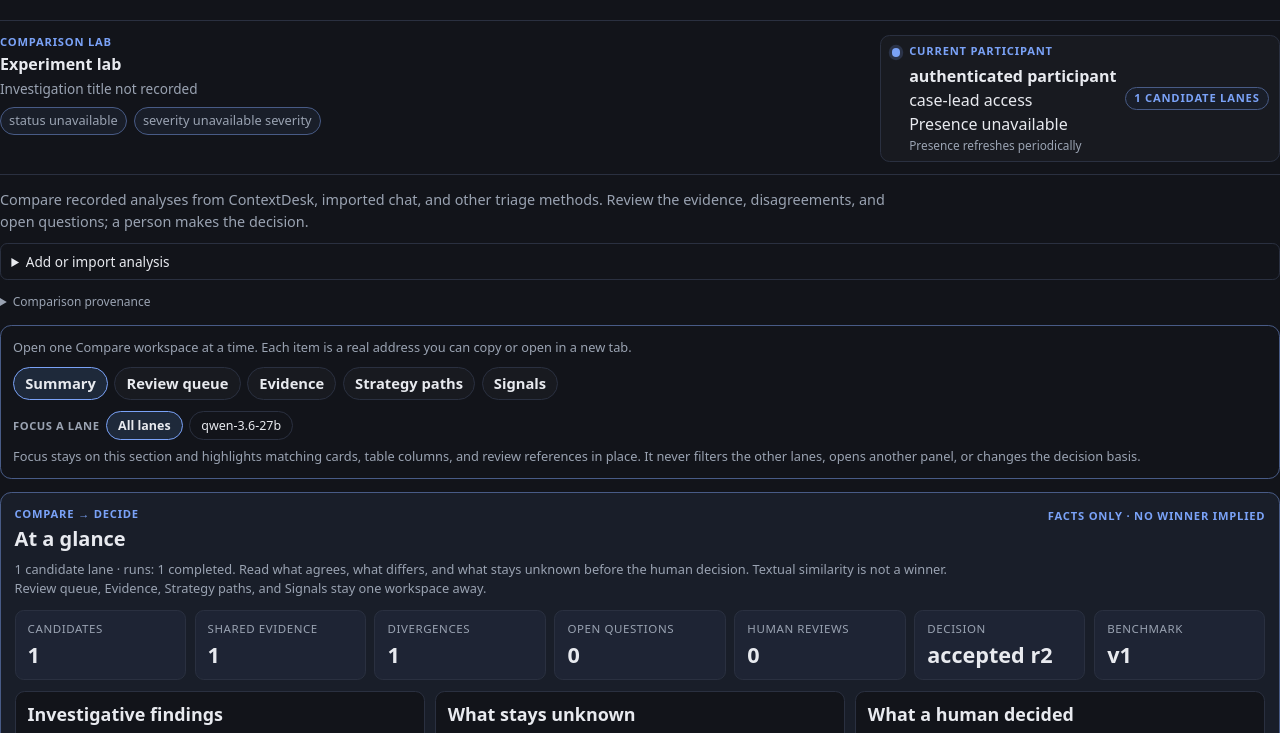
Scenario: experiment lab › renders shared evidence and unknown question paths separately from gold
This screenshot has width=1280, height=733.
Expected: the heading "At a glance" is shown, [15, 526, 139, 552]
Click the link "Evidence". click: [292, 384]
box: [247, 367, 336, 400]
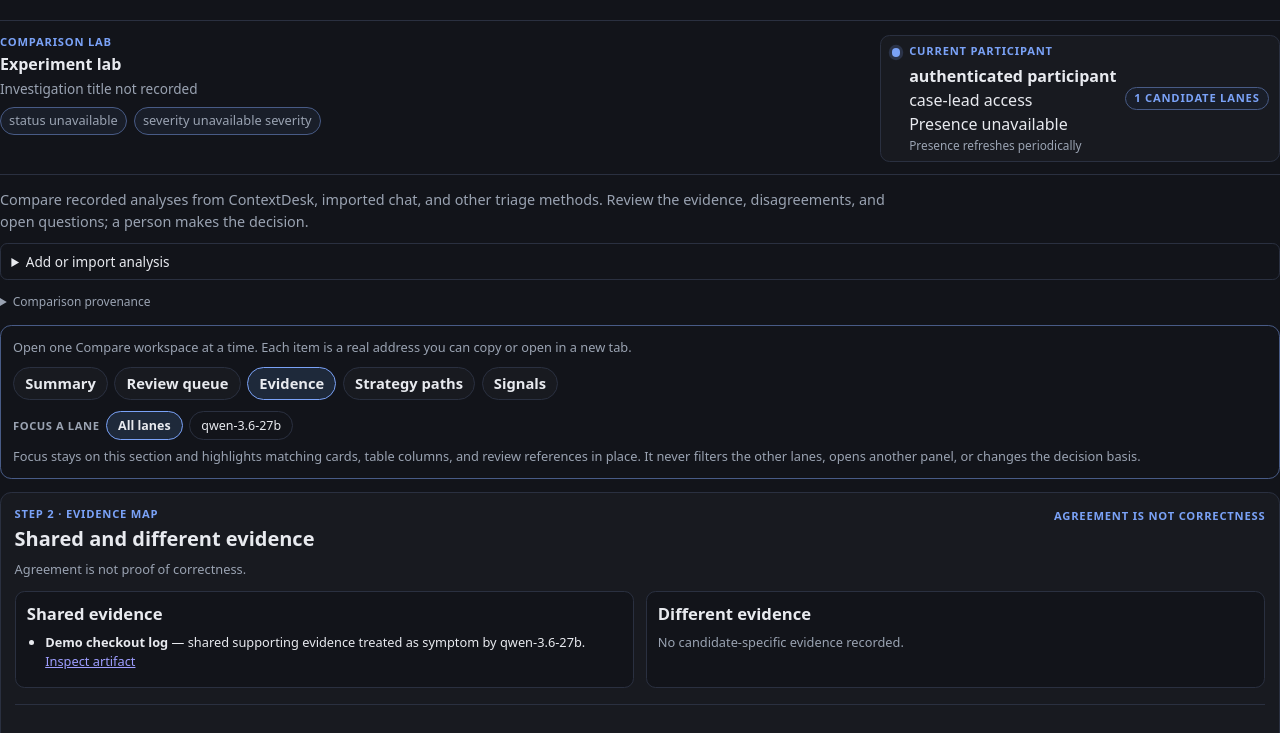
Now the list item "shared supporting evidence" is shown, box [168, 633, 422, 651]
Click the link "Strategy paths". click: [409, 384]
box: [343, 367, 475, 400]
(page scrolled)
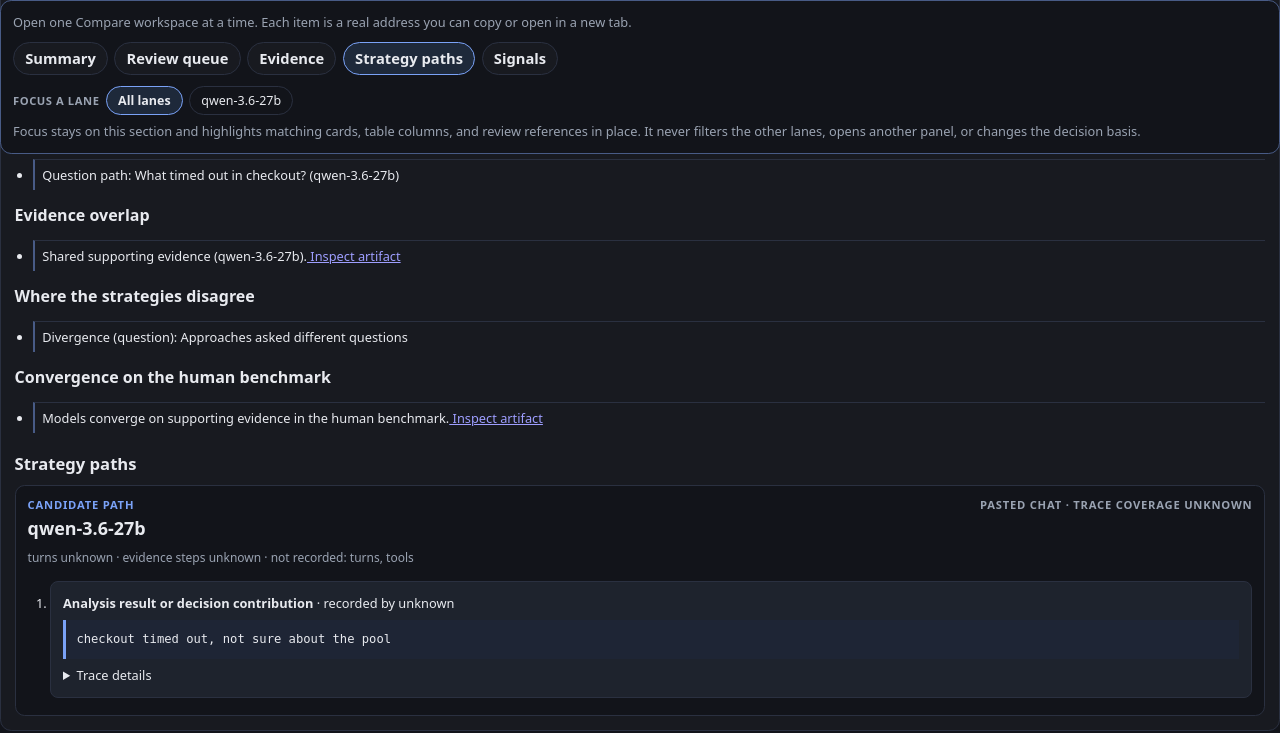
Now the list item "Question path: What timed out in checkout? (qwen-3.6-27b)" is shown, box [33, 159, 1265, 190]
Now the list item "Models converge on supporting evidence in the human benchmark" is shown, box [42, 409, 449, 427]
Now the text "not recorded: turns, tools" is shown, box [261, 550, 414, 566]
